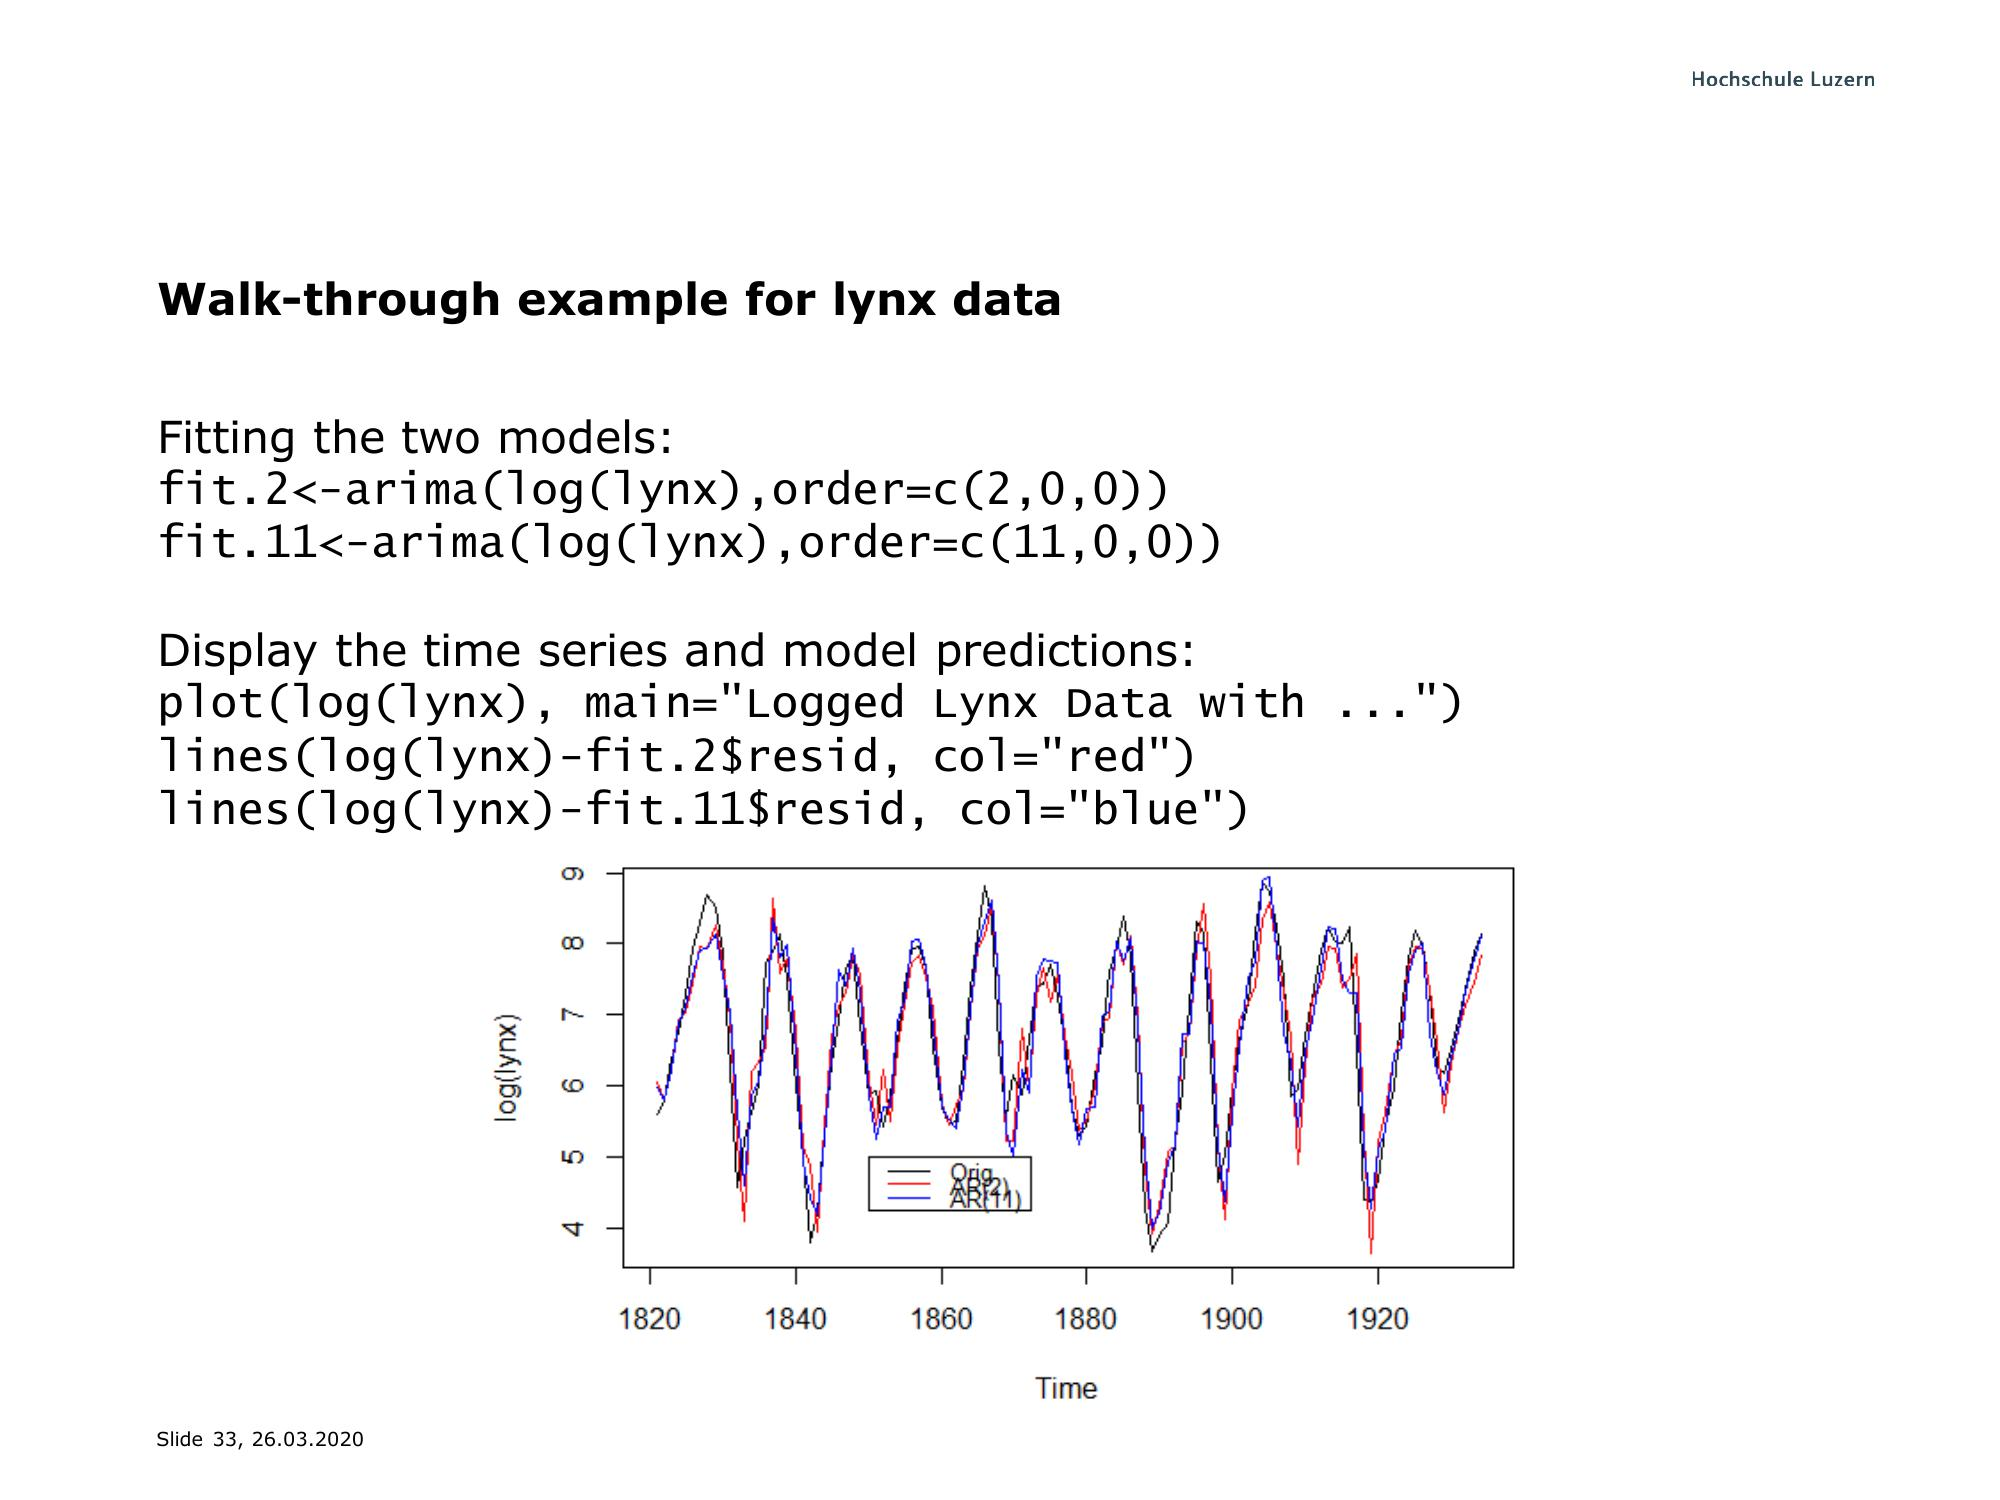Title: (131, 257, 1082, 336)
